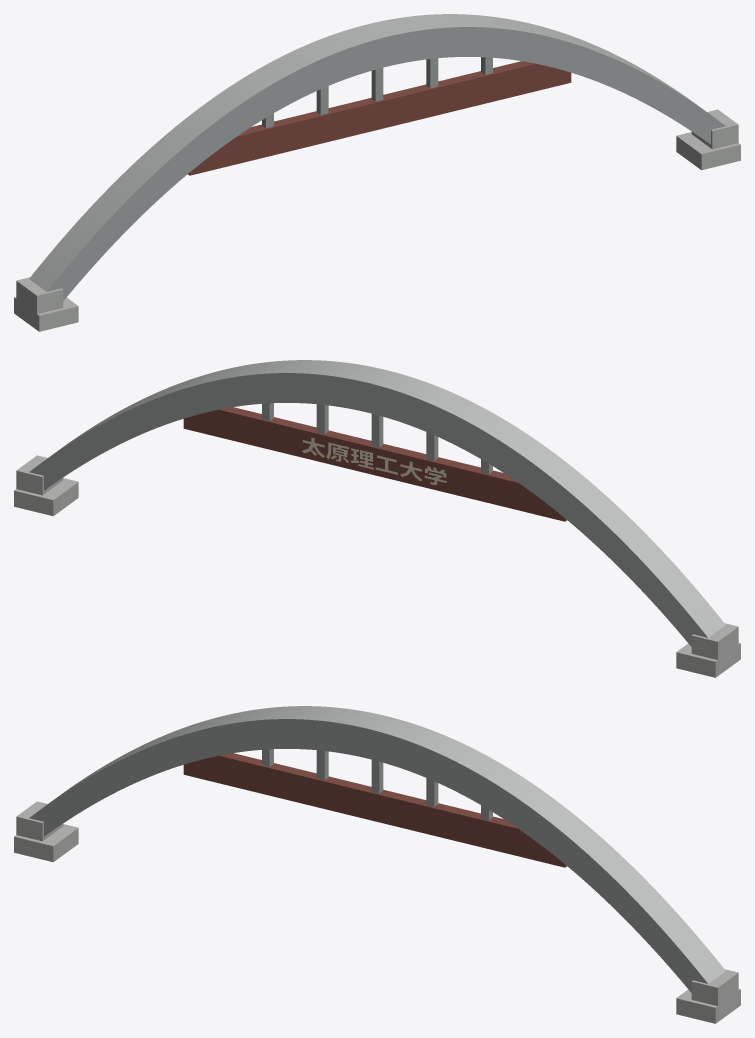
The model's file is north-gate.glb.
3 views of the same model, one above another, from view 1: azimuth 30°, elevation 25°; view 2: azimuth 150°, elevation 25°; view 3: azimuth 330°, elevation 25° (orthographic).
Parts seen in each view (by area): view 1: Continuous shallow arch, Suspended rectangular plaque, Concrete wing.001, Concrete wing, Concrete end support, Concrete end support.001; view 2: Continuous shallow arch, Suspended rectangular plaque, Concrete wing.001, University name, Concrete wing, Concrete end support, Concrete end support.001; view 3: Continuous shallow arch, Suspended rectangular plaque, Concrete wing, Concrete wing.001, Concrete end support.001, Concrete end support.
Part boxes in pixels (x1=…): Continuous shallow arch: x1=17, y1=14, x2=725, y2=322; Suspended rectangular plaque: x1=188, y1=61, x2=571, y2=175; Concrete wing.001: x1=676, y1=132, x2=740, y2=170; Concrete wing: x1=14, y1=297, x2=78, y2=331; Concrete end support: x1=16, y1=277, x2=63, y2=313; Concrete end support.001: x1=691, y1=109, x2=738, y2=149; Continuous shallow arch: x1=29, y1=360, x2=737, y2=670; Suspended rectangular plaque: x1=183, y1=407, x2=566, y2=521; Concrete wing.001: x1=14, y1=478, x2=78, y2=516; University name: x1=302, y1=437, x2=446, y2=484; Concrete wing: x1=676, y1=643, x2=740, y2=677; Concrete end support: x1=691, y1=623, x2=738, y2=659; Concrete end support.001: x1=16, y1=455, x2=63, y2=495; Continuous shallow arch: x1=29, y1=706, x2=737, y2=1016; Suspended rectangular plaque: x1=183, y1=753, x2=566, y2=867; Concrete wing: x1=14, y1=824, x2=78, y2=862; Concrete wing.001: x1=676, y1=989, x2=740, y2=1023; Concrete end support.001: x1=691, y1=969, x2=738, y2=1005; Concrete end support: x1=16, y1=801, x2=63, y2=841.
Bounding box in the file's own units: 32 × 9 × 2.
